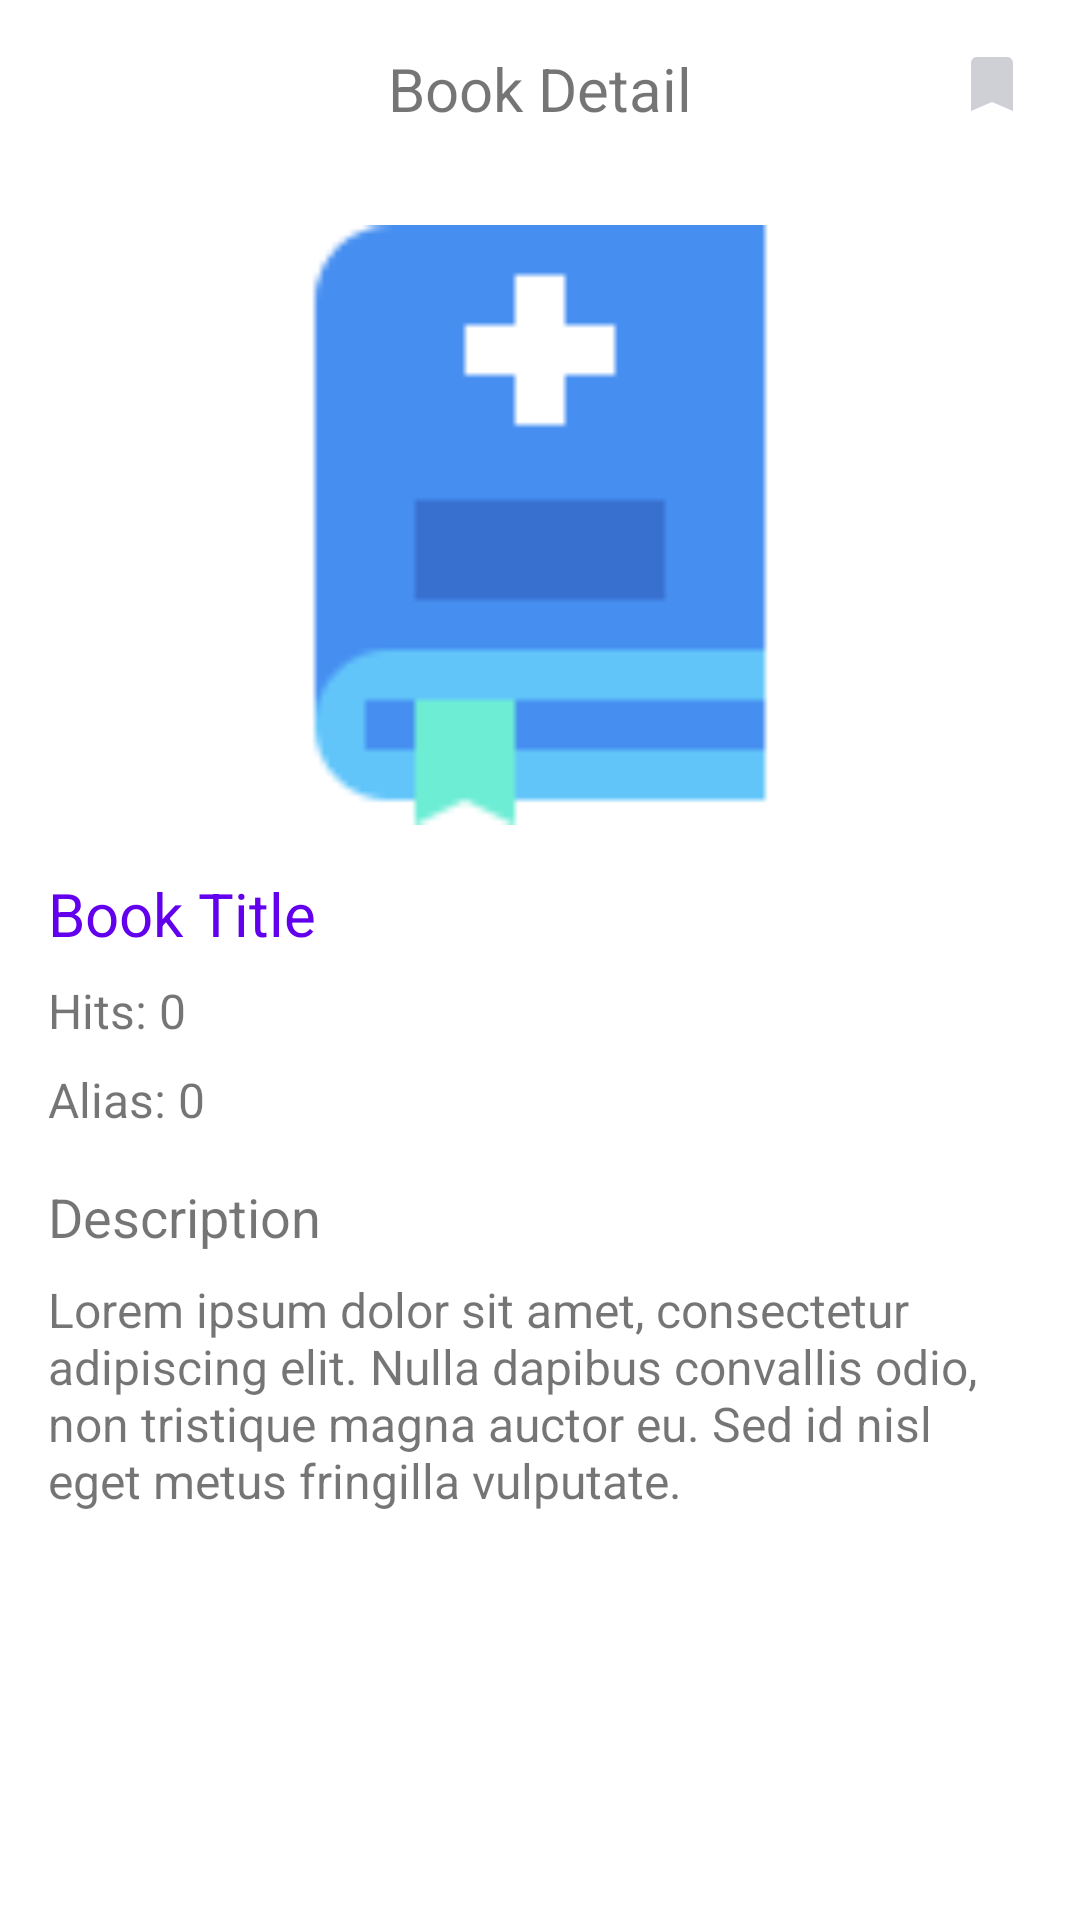

Icon click points for this 1080px×1920px phone screenshot, format (x,y):
bookmark: (992,84)
